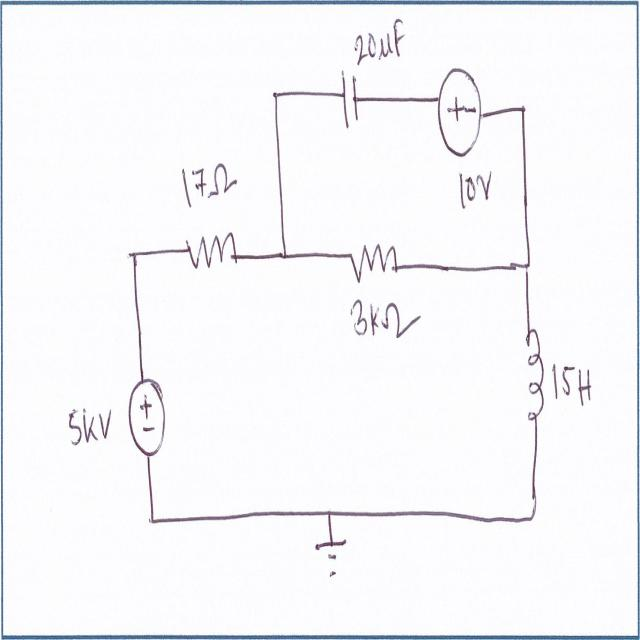capacitor: (337, 60, 362, 140)
ground: (314, 529, 351, 593)
inductor: (525, 322, 551, 441)
resistor: (348, 232, 399, 293), (187, 226, 239, 281)
voltage_source: (436, 62, 484, 162), (127, 374, 168, 462)
